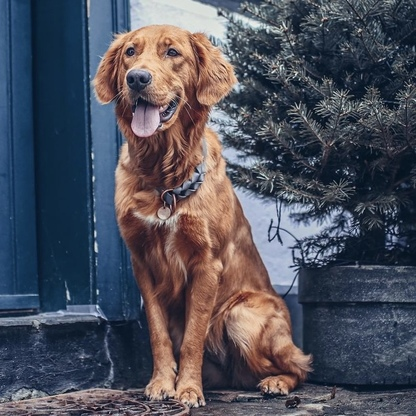labrado: (90, 22, 315, 410)
